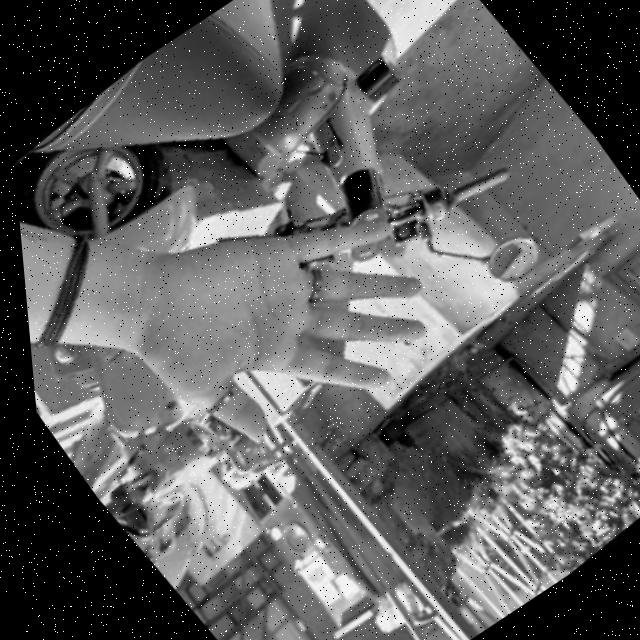hand: (66, 108, 478, 486)
